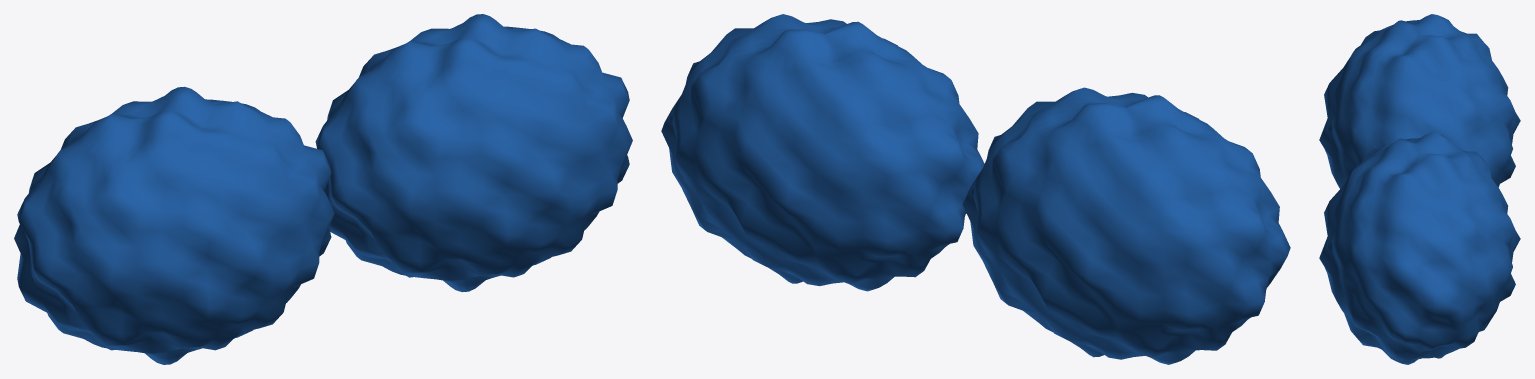
Rendered from cortex-pial.glb.
3 views of the same model, side by side, from view 1: azimuth 30°, elevation 25°; view 2: azimuth 150°, elevation 25°; view 3: azimuth 270°, elevation 25° (orthographic). The views are drawn at different scales.
Parts seen in each view (by area): view 1: cortex.left, cortex.right; view 2: cortex.left, cortex.right; view 3: cortex.right, cortex.left.
Part boxes in pixels (x1=…): cortex.left: x1=14, y1=86, x2=334, y2=364; cortex.right: x1=315, y1=14, x2=632, y2=292; cortex.left: x1=962, y1=87, x2=1290, y2=364; cortex.right: x1=661, y1=14, x2=984, y2=291; cortex.right: x1=1319, y1=132, x2=1520, y2=364; cortex.left: x1=1319, y1=14, x2=1520, y2=188.
Bounding box in the file's own units: 4.81 × 1.9 × 1.73.
